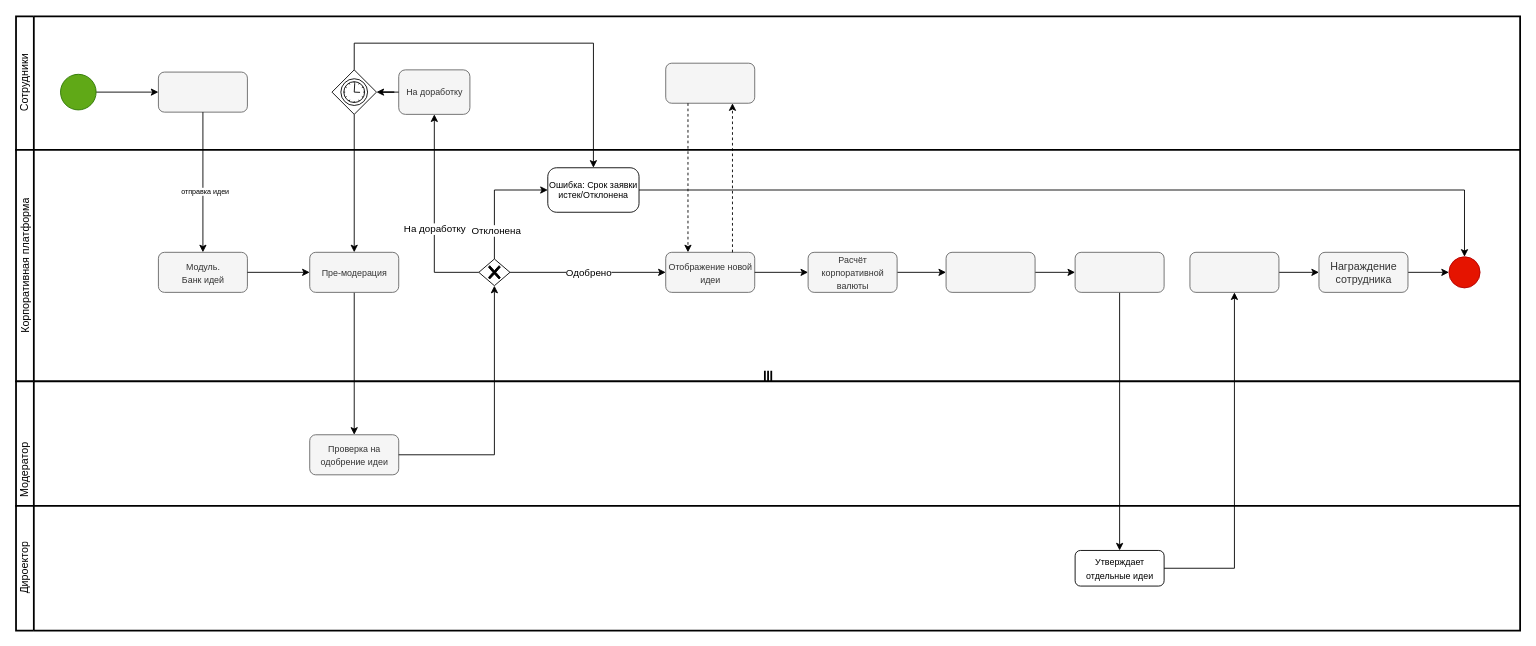
Some shapes in this 1536 by 646 pixel diagram are drawn without their labels. The shapes that lost their labels are listed below. From the top down, each one's centre as x and y in pixels, then its label:
point (202, 91): Подать идею
point (710, 82): Голосовать/комментировать
point (990, 271): Формирование рейтинга сотрудников
point (1119, 271): На рассмотрение директору
point (1234, 271): Отображается на портале
